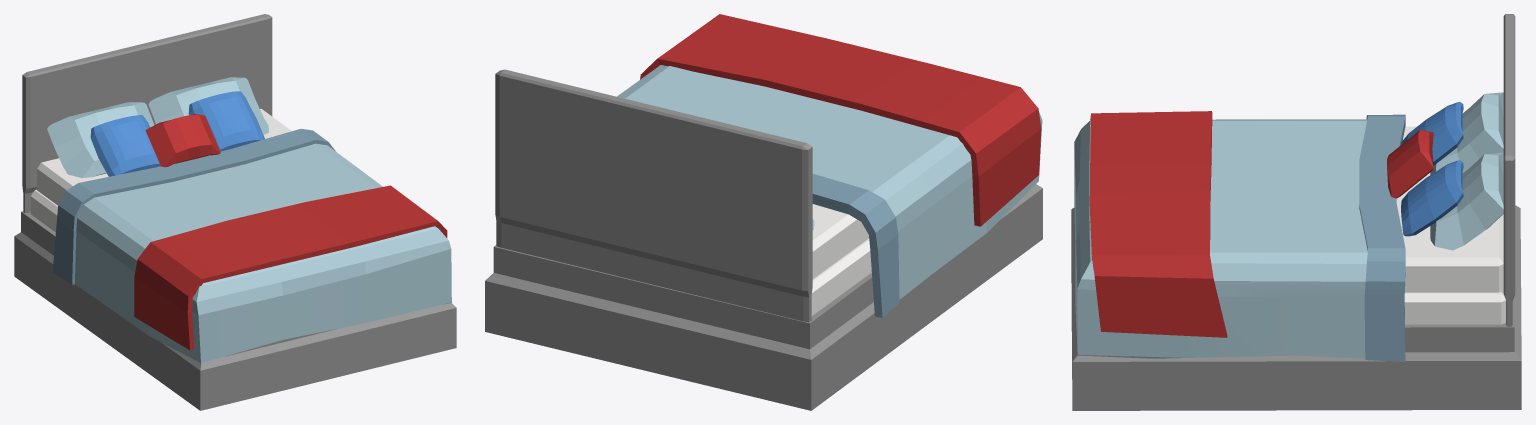
Rendered from Bed_1_231109.glb.
3 views of the same model, side by side, from view 1: azimuth 30°, elevation 25°; view 2: azimuth 150°, elevation 25°; view 3: azimuth 270°, elevation 25° (orthographic). The views are drawn at different scales.
Parts seen in each view (by area): view 1: Bed_1; view 2: Bed_1; view 3: Bed_1.
Boxes of the visible parts, x1,y1,x2,y2 form: Bed_1: (14, 14, 456, 410); Bed_1: (485, 14, 1042, 410); Bed_1: (1071, 14, 1521, 410).
Bounding box in the file's own units: 1.95 × 1.39 × 2.28.
Materials: 1 (1 with a texture image).
